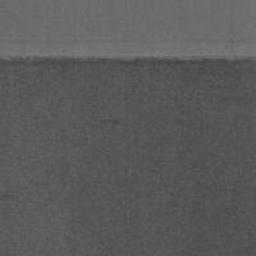Welding line: (0, 54, 256, 61)
